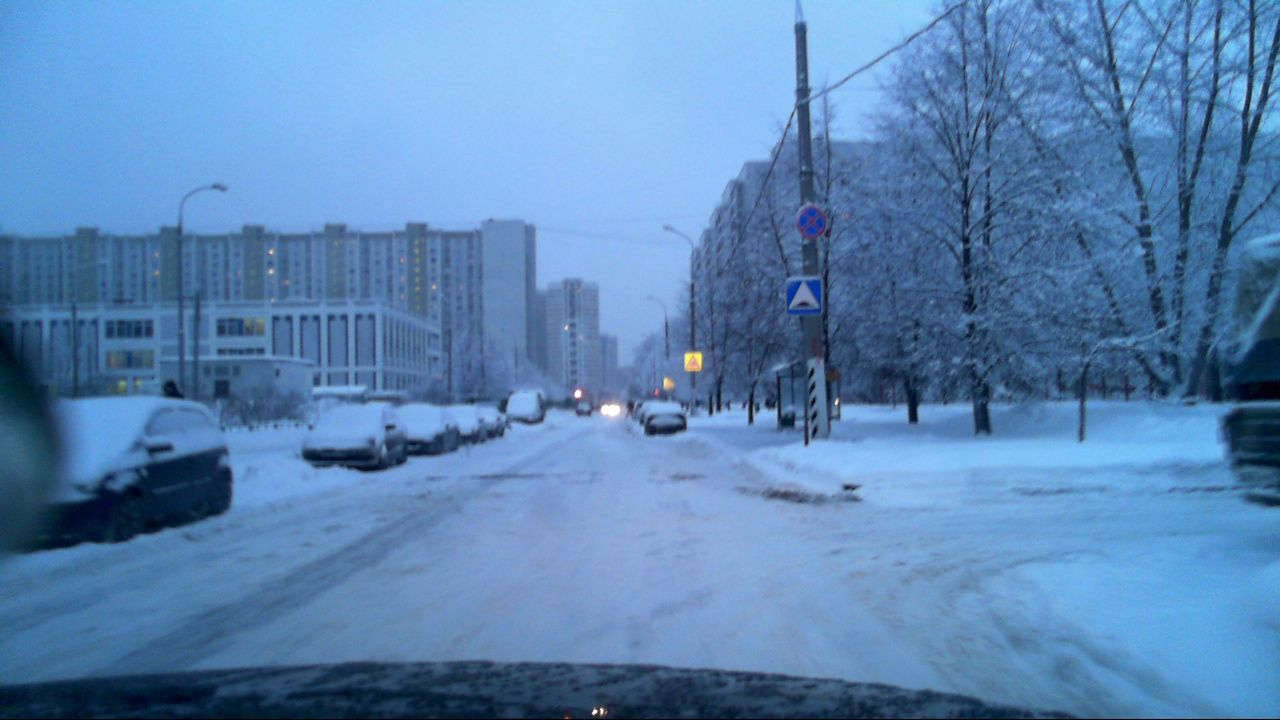No Parking: (794, 204, 831, 238)
